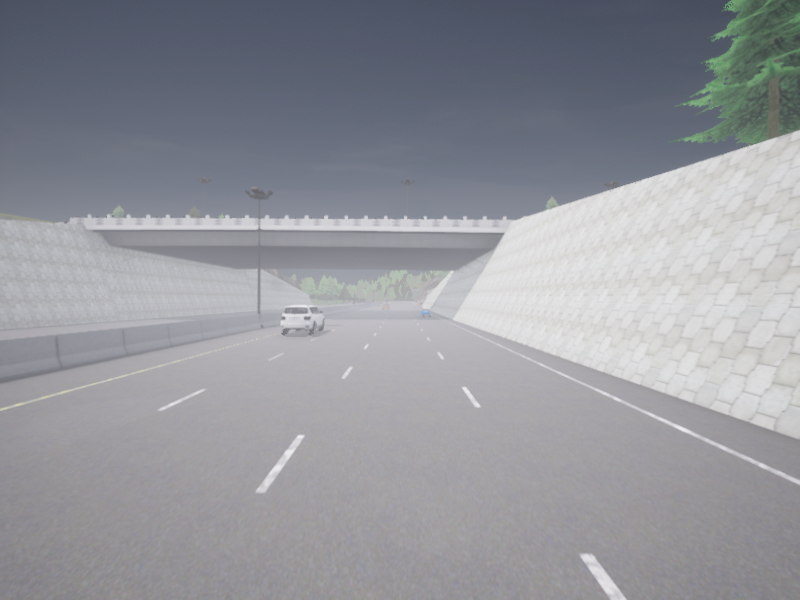vehicle: (281, 305, 324, 334), (420, 307, 429, 316), (383, 303, 389, 308)
